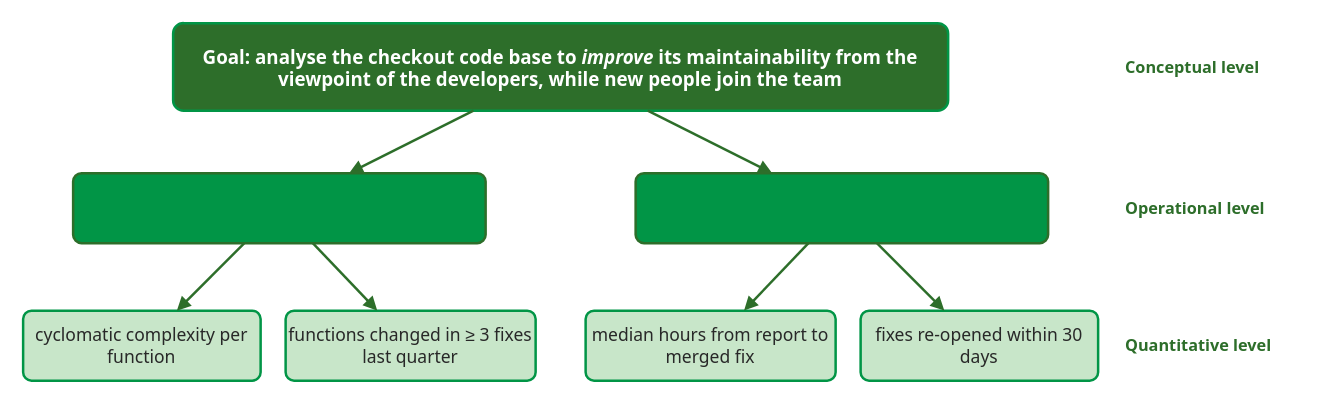
Image size: 1331x403. Some labels were removed from this diagram. The shapes that lost their labels are listed below. From the top down, each one's centre as x and y in pixels, then its label:
(278,207): Q1 Which functions are hard to change?
(841,207): Q2 How long does a typical fix take?
